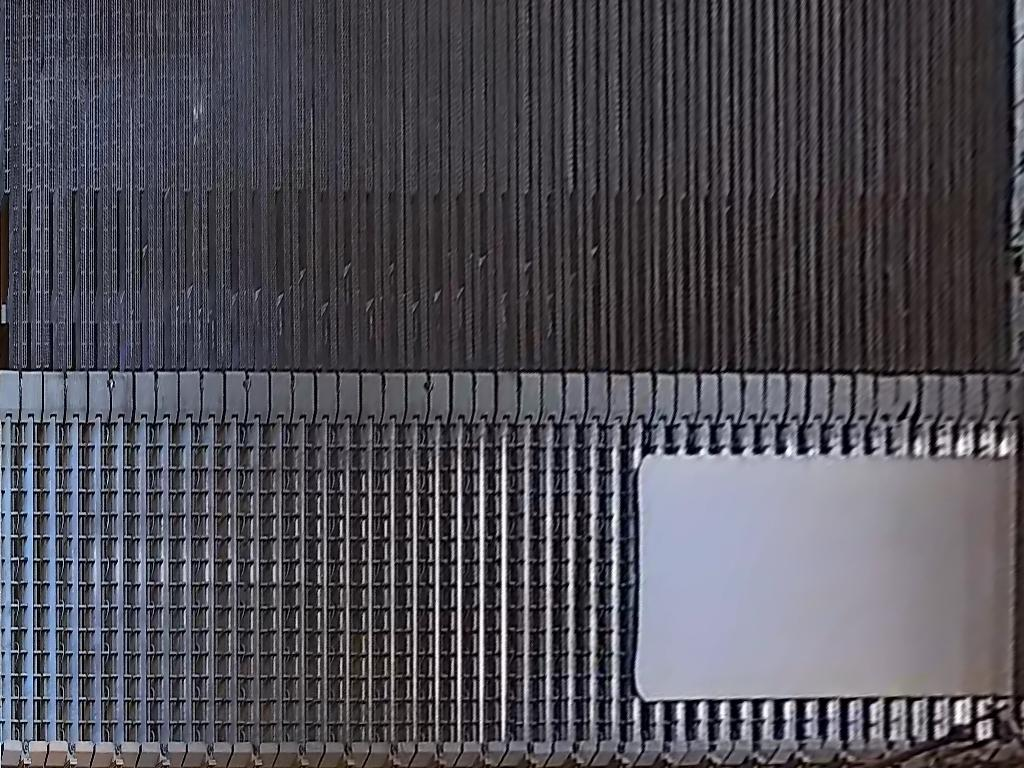steel: (634, 455, 1024, 701)
